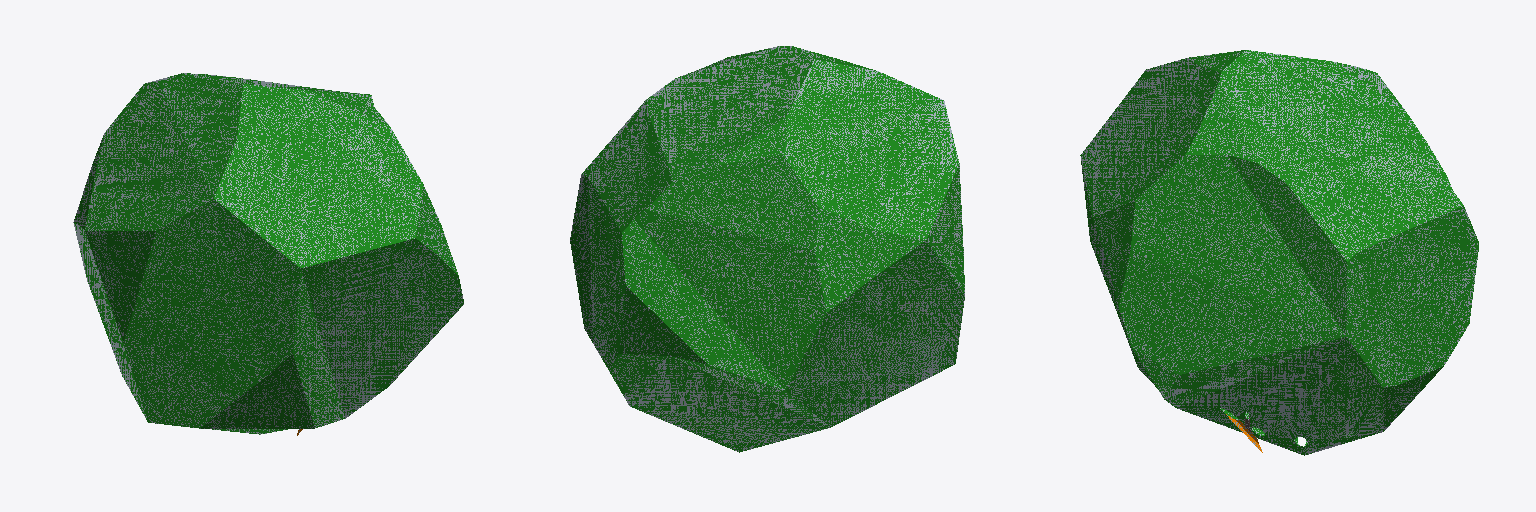
Rendered from AppleTree_leaves(green).obj.
3 views of the same model, side by side, from view 1: azimuth 30°, elevation 25°; view 2: azimuth 150°, elevation 25°; view 3: azimuth 270°, elevation 25° (orthographic).
Visible parts, largest first — view 1: Mesh1 Component_11_1 Model; view 2: Mesh1 Component_11_1 Model; view 3: Mesh1 Component_11_1 Model.
Part boxes in pixels (bbox=[...]): Mesh1 Component_11_1 Model: bbox=[73, 73, 463, 435]; Mesh1 Component_11_1 Model: bbox=[570, 46, 964, 452]; Mesh1 Component_11_1 Model: bbox=[1080, 50, 1478, 455].
Size of the model in its own units: 5914 by 6567 by 6197.